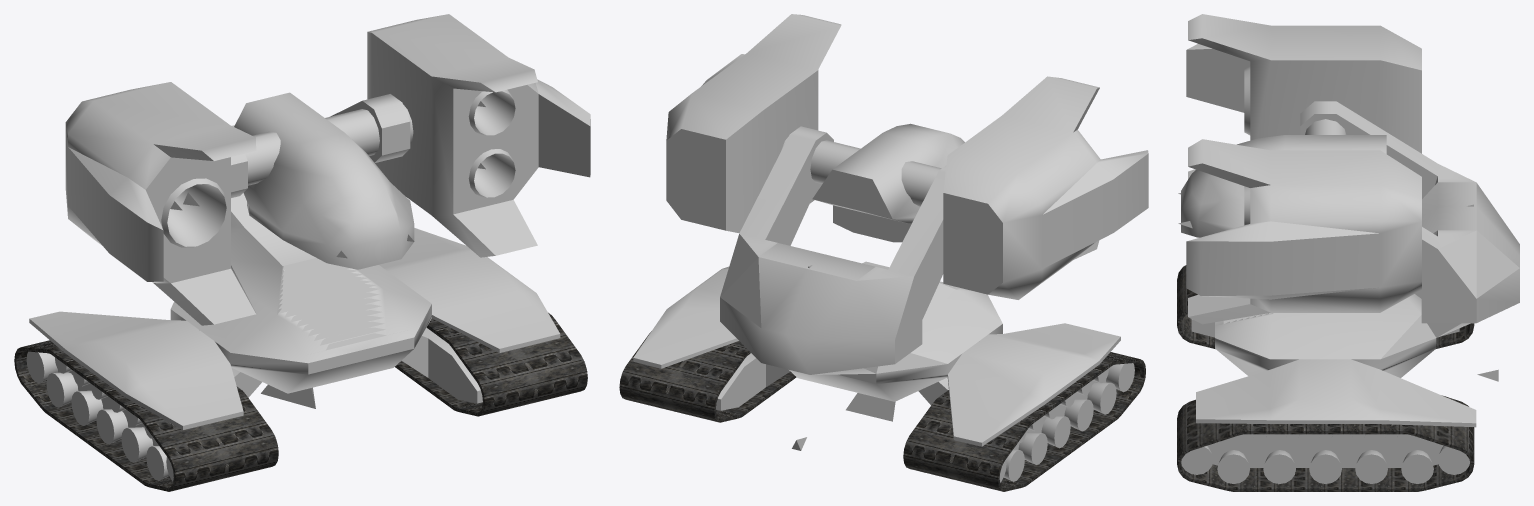
The model's file is ivrckt00.FBX.
The picture shows the model from 3 angles, left to right: view 1: azimuth 30°, elevation 25°; view 2: azimuth 150°, elevation 25°; view 3: azimuth 270°, elevation 25°; orthographic projection. The views are drawn at different scales.
Visible parts, largest first — view 1: recoil1, recoil2, main_body, turret_y, turret_x, tractor_r, tractor_l, tread_r, tread_l, hp_dummyroot; view 2: turret_y, recoil2, recoil1, main_body, turret_x, tractor_r, tractor_l, tread_r, tread_l, hp_dummyroot; view 3: recoil1, turret_y, recoil2, main_body, tread_l, tractor_l, turret_x, tractor_r.
Part boxes in pixels (x1,y1,x2,y2): recoil1: (367, 14, 590, 257); recoil2: (65, 82, 256, 325); main_body: (29, 228, 560, 429); turret_y: (171, 94, 431, 363); turret_x: (234, 92, 414, 269); tractor_r: (14, 340, 278, 491); tractor_l: (395, 312, 587, 416); tread_r: (26, 351, 261, 481); tread_l: (401, 327, 482, 403); hp_dummyroot: (261, 384, 315, 408); turret_y: (720, 126, 1002, 374); recoil2: (943, 76, 1148, 299); recoil1: (666, 14, 841, 232); main_body: (633, 266, 1120, 446); turret_x: (781, 123, 964, 242); tractor_r: (903, 352, 1145, 491); tractor_l: (619, 331, 796, 422); tread_r: (918, 363, 1134, 482); tread_l: (716, 353, 790, 410); hp_dummyroot: (846, 393, 895, 421); recoil1: (1186, 139, 1421, 324); turret_y: (1215, 101, 1519, 359); recoil2: (1186, 14, 1421, 178); main_body: (1196, 338, 1476, 427); tread_l: (1181, 434, 1469, 483); tractor_l: (1177, 395, 1474, 491); turret_x: (1181, 119, 1386, 237); tractor_r: (1177, 265, 1474, 348).
Bounding box in the file's own units: 8.61 × 6.27 × 6.26.
